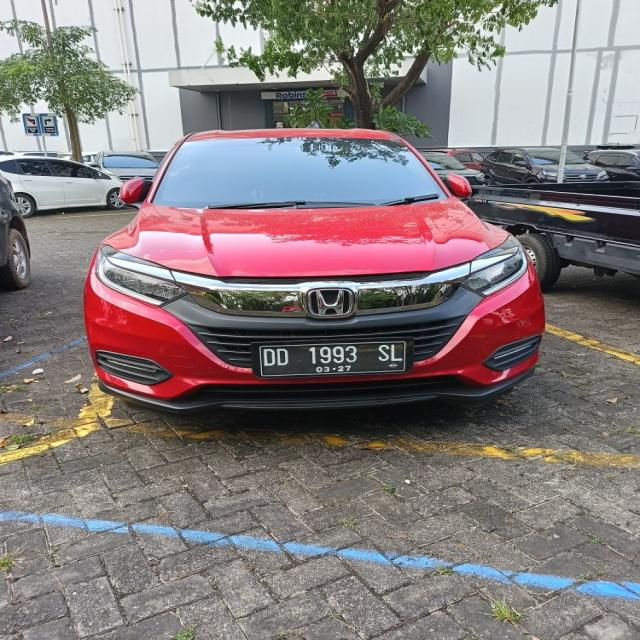plates: (260, 333, 412, 384)
